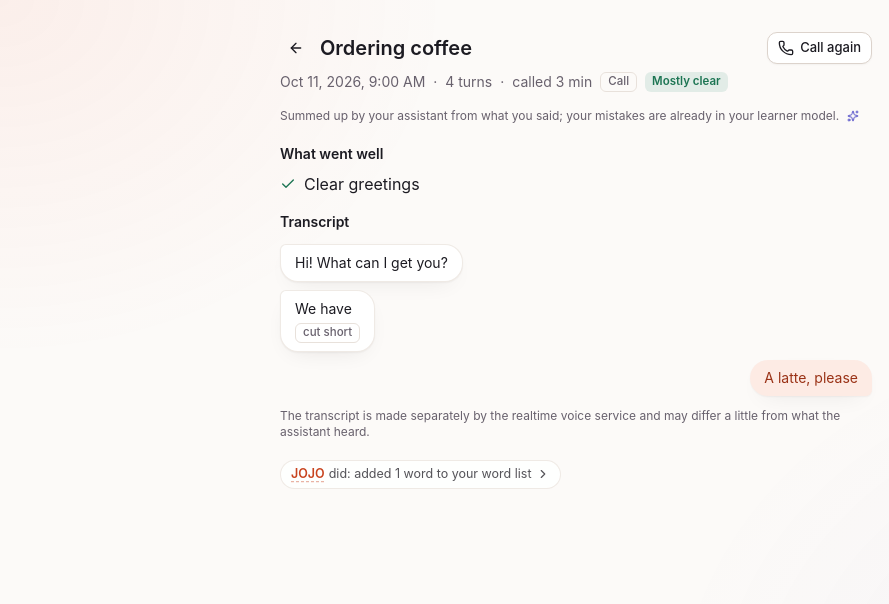
Test case: a realtime call's page › shows the summary, the transcript with cut-short replies, and what the assistant did
Expected: the text "Clear greetings" is shown, top-left (304, 172), bottom-right (420, 196)
Expected: the text "called 3 min" is shown, top-left (512, 72), bottom-right (592, 92)
Click the button with aria-label "What JOJO did: added 1 word to your word list": (443, 474) top-left (327, 461), bottom-right (560, 488)
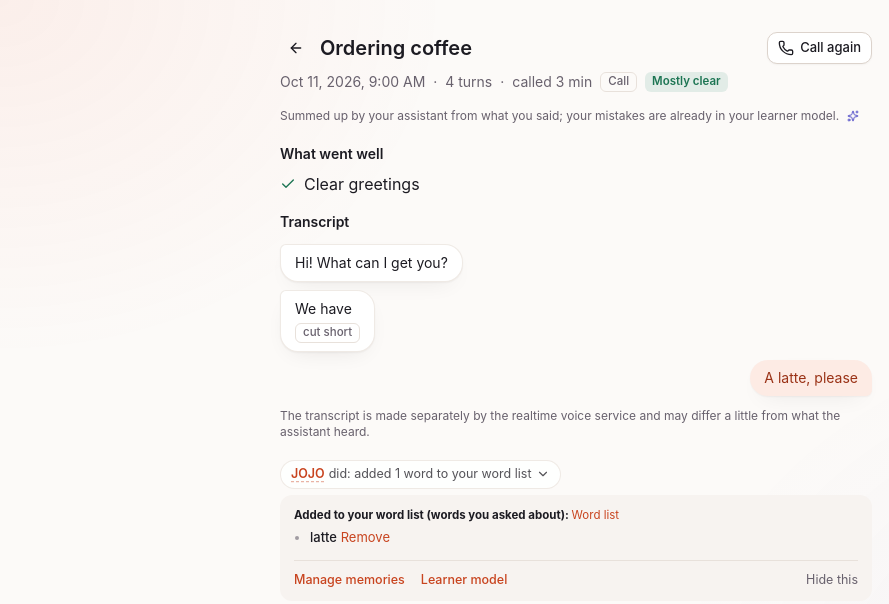
Click the button with aria-label "Remove latte from your word list": (365, 538) top-left (341, 528), bottom-right (390, 548)
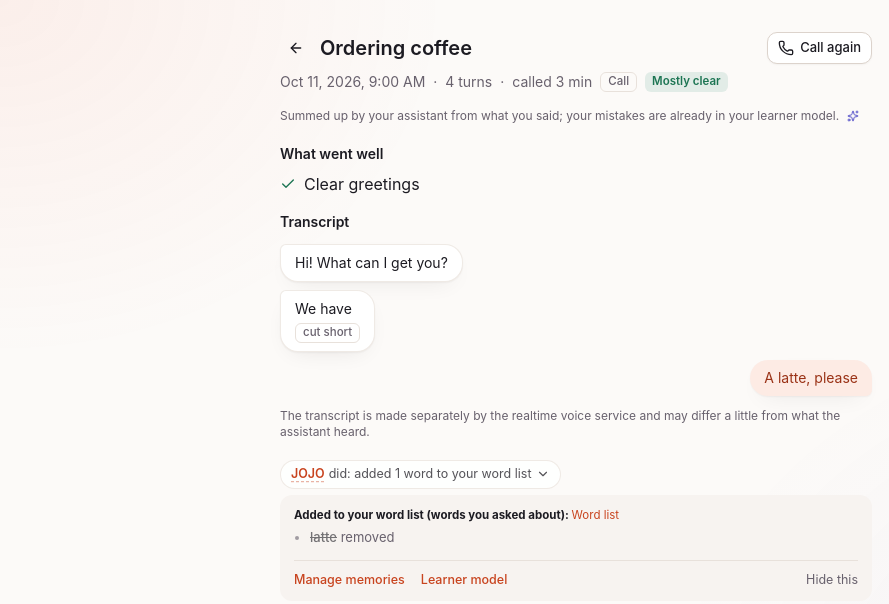
Expected: the text "removed" is shown, top-left (341, 529), bottom-right (394, 545)
